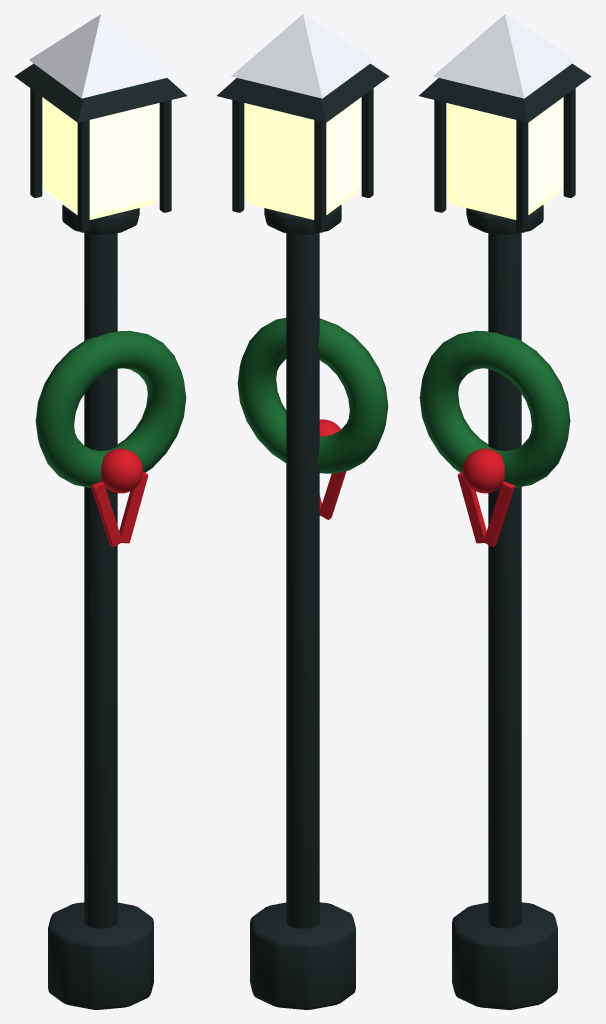
Rendered from lamppost.glb.
3 renders of one model, left to right at view 1: azimuth 30°, elevation 25°; view 2: azimuth 150°, elevation 25°; view 3: azimuth 330°, elevation 25°, orthographic.
Visible parts, largest first — view 1: lamppost; view 2: lamppost; view 3: lamppost.
Boxes of the visible parts, x1,y1,x2,y2 form: lamppost: (14,14,186,1009); lamppost: (217,14,389,1009); lamppost: (419,14,591,1009).
Size of the model in its own units: 0.68 by 4.32 by 0.5091.
